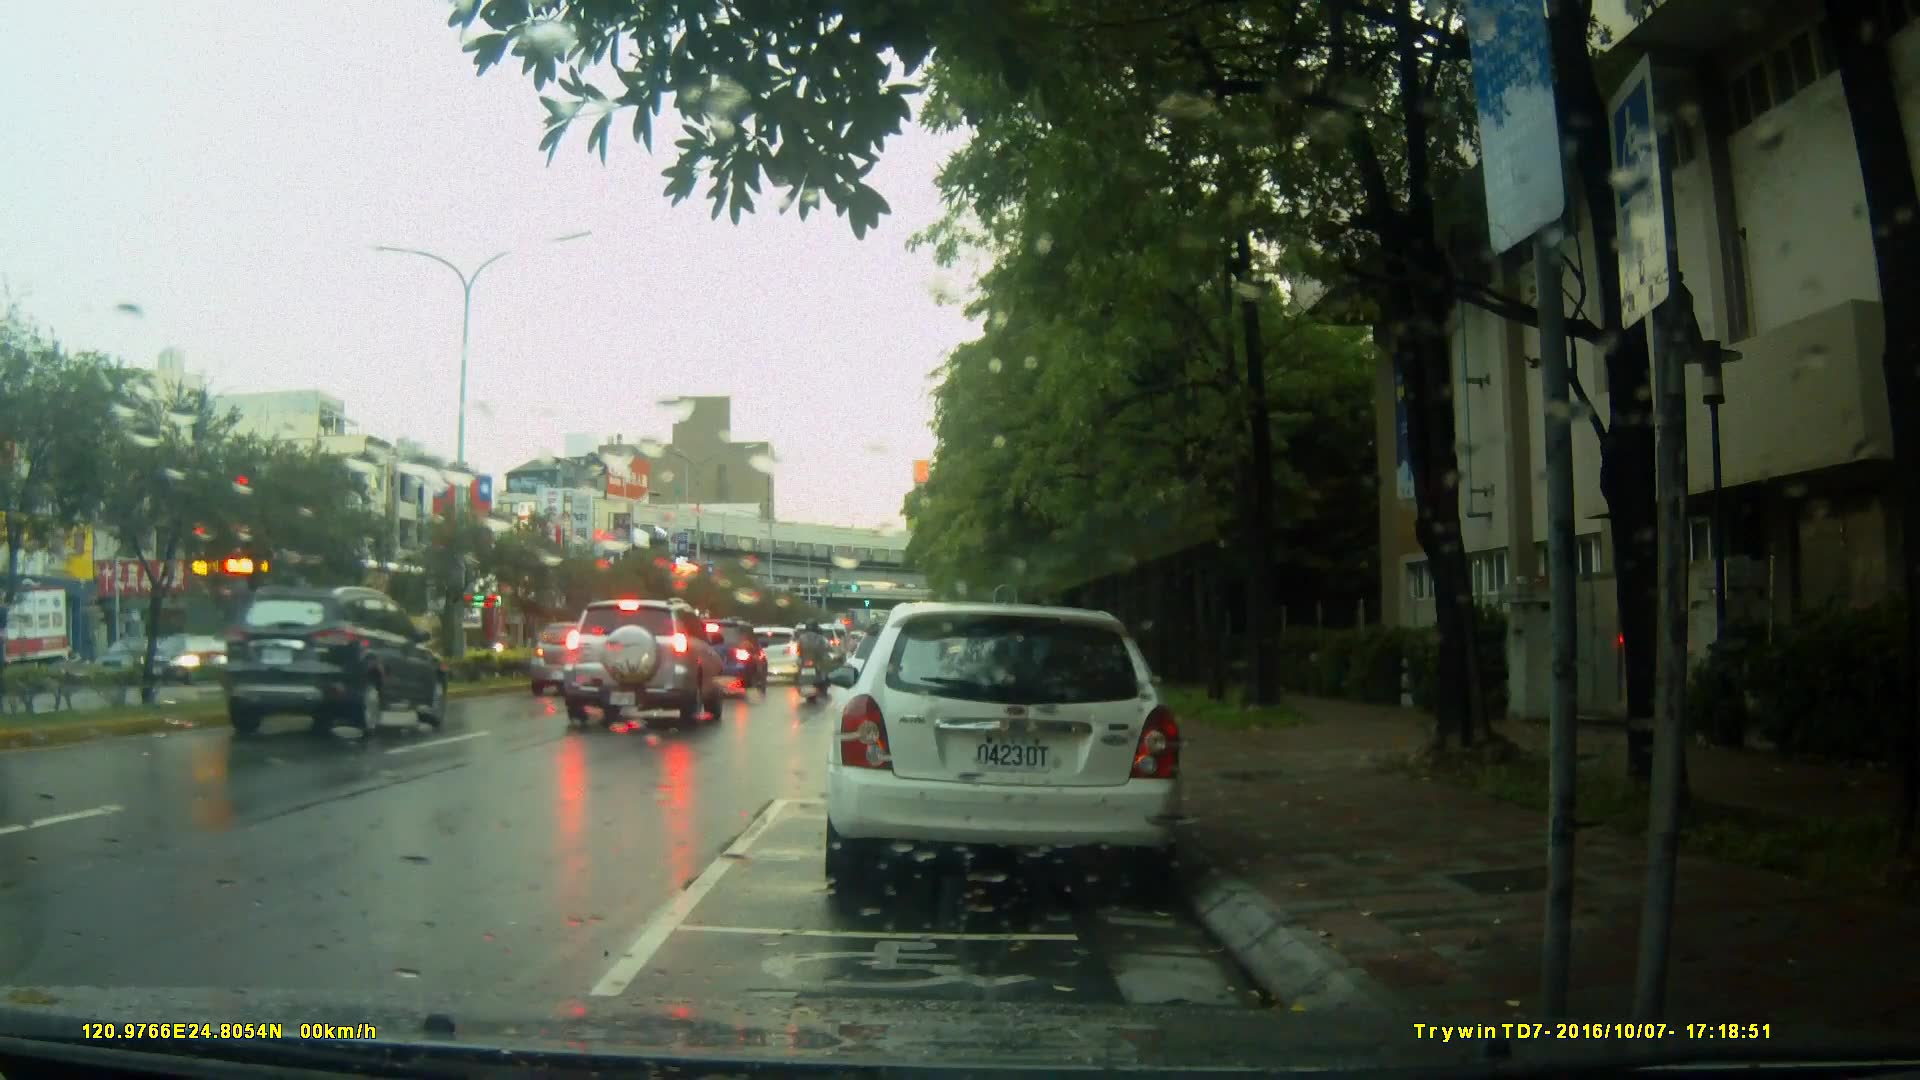rider: (797, 613, 836, 710)
vehicle: (820, 602, 1188, 898), (218, 584, 455, 742), (566, 598, 729, 728), (674, 616, 772, 692)
